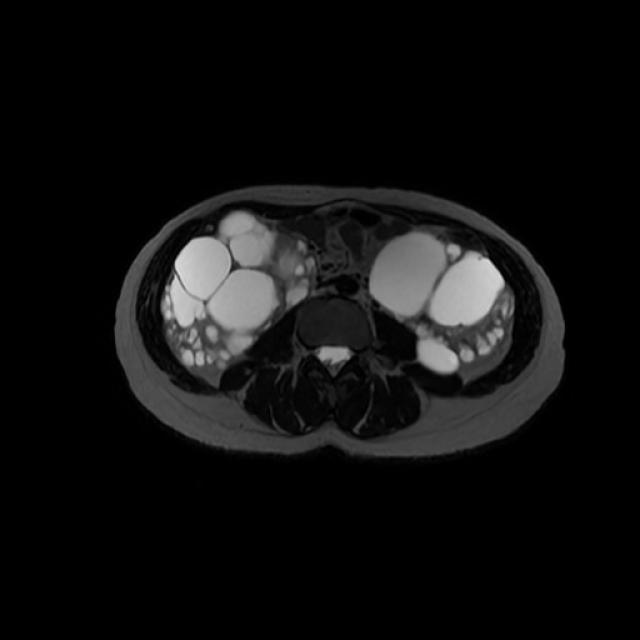sag: (162, 214, 314, 373)
sol: (368, 235, 511, 376)
